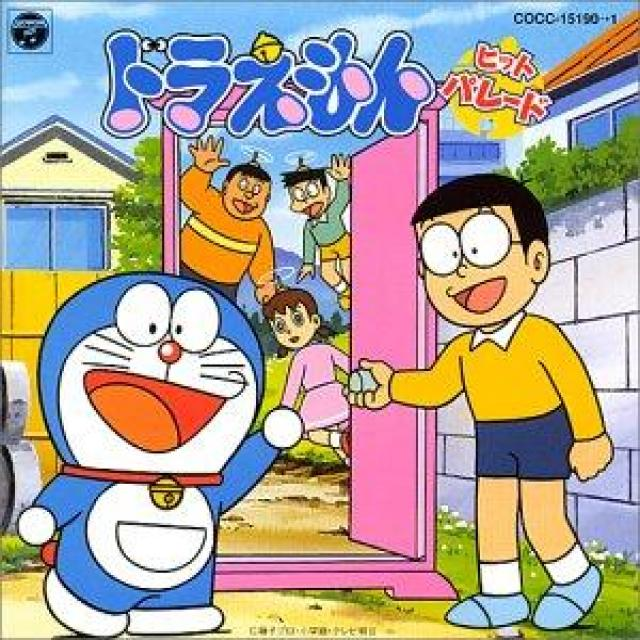doraemon: (30, 269, 271, 510)
jaian: (218, 156, 271, 224)
nobita: (403, 167, 553, 332)
shizuka: (256, 282, 329, 362)
suneo: (275, 163, 331, 219)
